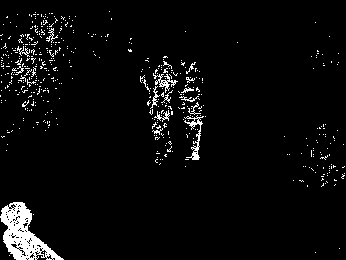person: (1, 200, 67, 259)
